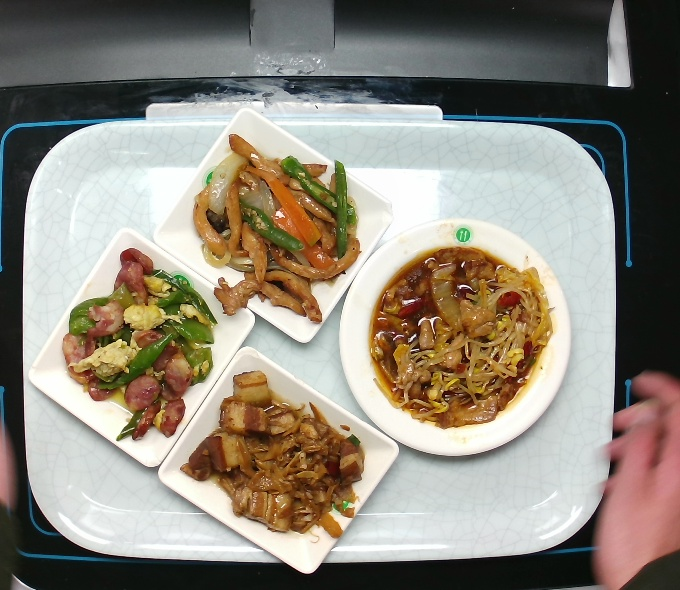wcq-HongShaoRou: (178, 368, 369, 544)
wcq-QingJiaoChaoDaChang: (57, 243, 223, 443)
wcq-QingJiaoRouSi: (189, 130, 364, 329)
wcq-ShuiZhuRouPian: (360, 238, 563, 431)
